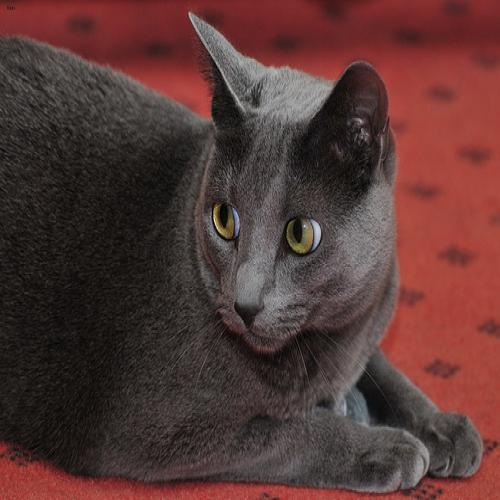rblue: (182, 5, 420, 390)
